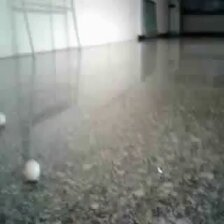tennis: (144, 112, 170, 148), (44, 76, 64, 103), (53, 50, 67, 69)
